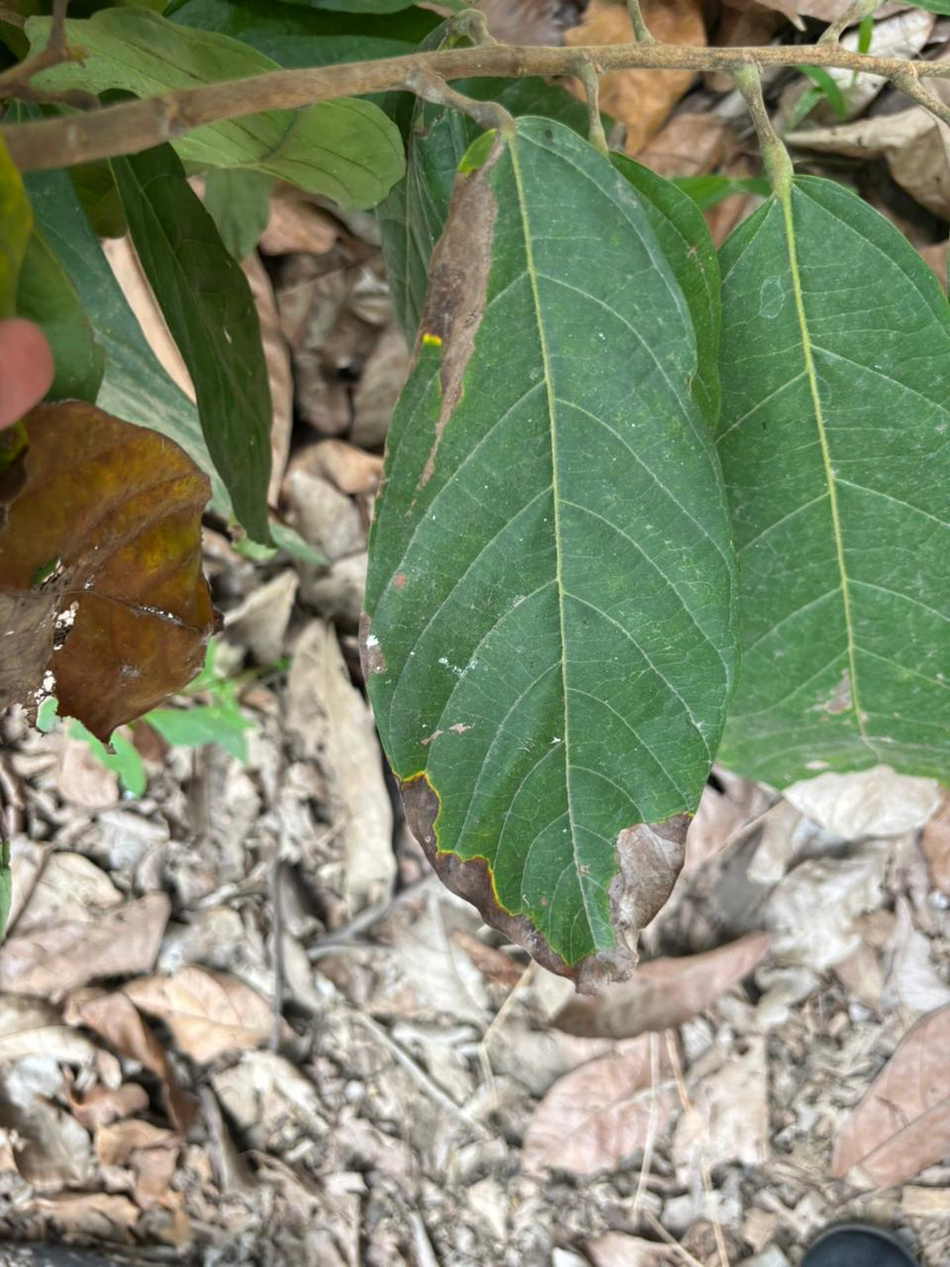deficiencia_potasio: (362, 118, 735, 978)
